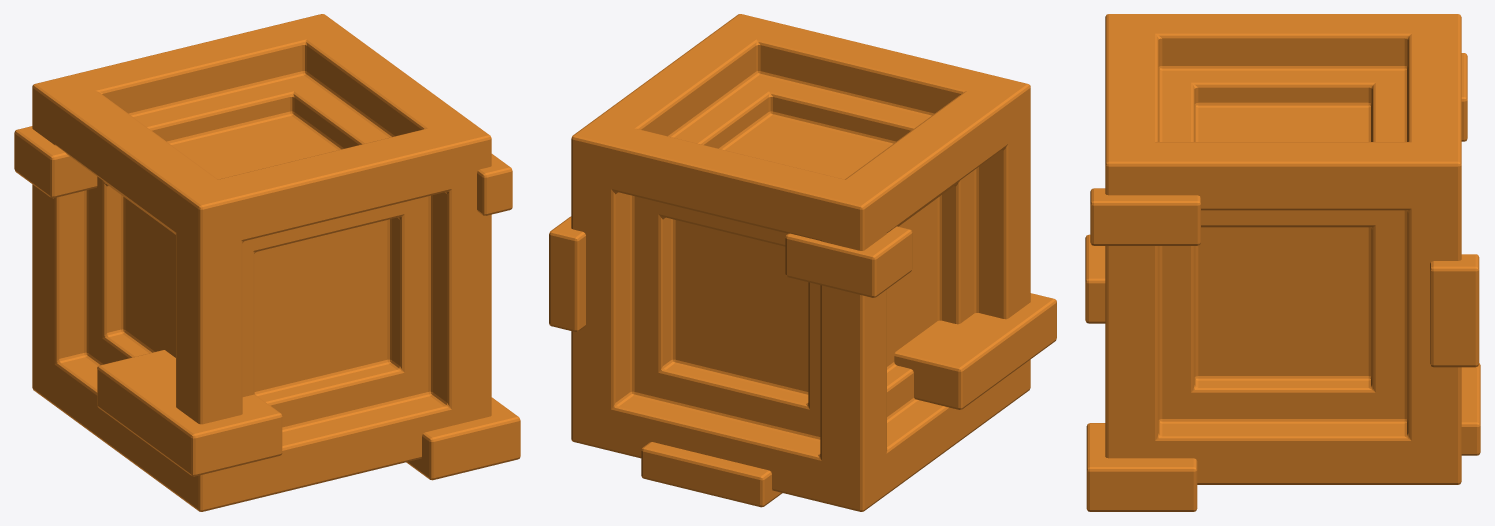
File: CUBES_LVL3.fbx
3 renders of one model, left to right at view 1: azimuth 30°, elevation 25°; view 2: azimuth 150°, elevation 25°; view 3: azimuth 270°, elevation 25°, orthographic. The views are drawn at different scales.
Parts seen in each view (by area): view 1: Cube.076; view 2: Cube.076; view 3: Cube.076.
Part boxes in pixels (bbox=[...]): Cube.076: bbox=[14, 14, 520, 511]; Cube.076: bbox=[549, 14, 1056, 511]; Cube.076: bbox=[1085, 14, 1480, 511].
Size of the model in its own units: 113 by 105 by 111.
